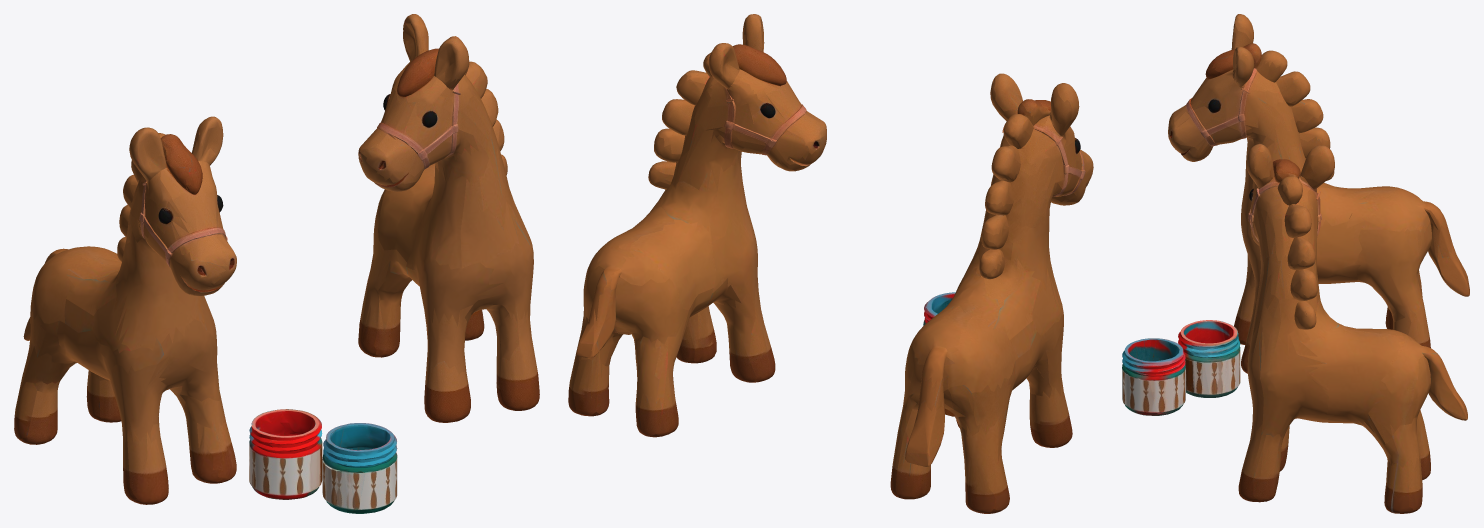
File: xmas_ws_paint.glb
The picture shows the model from 3 angles, left to right: view 1: azimuth 30°, elevation 25°; view 2: azimuth 150°, elevation 25°; view 3: azimuth 270°, elevation 25°; orthographic projection. The views are drawn at different scales.
Size of the model in its own units: 1.9 by 1.49 by 1.45.
1 material, 1 textured.
